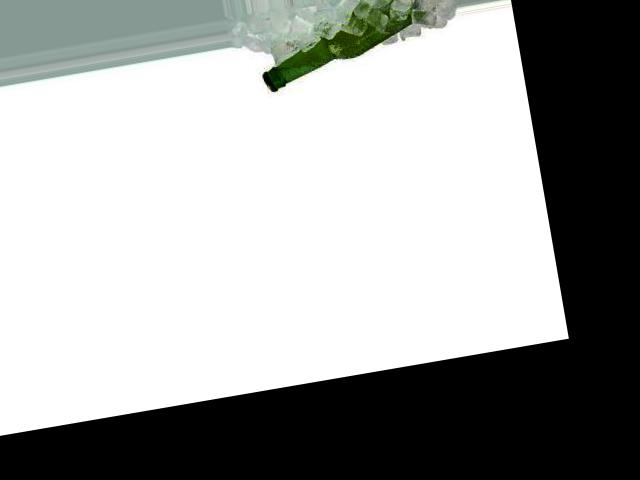beer: (253, 6, 431, 92)
